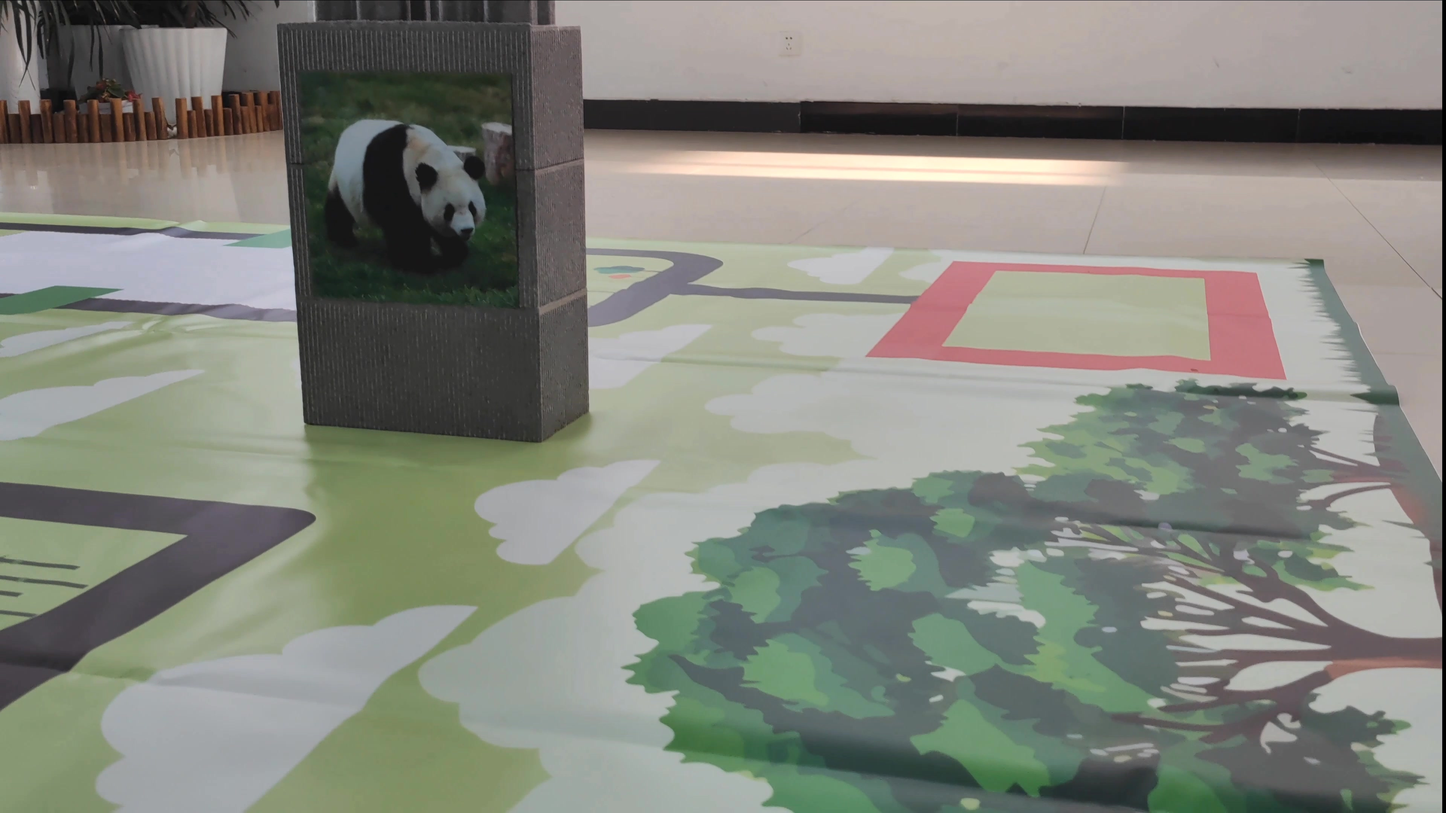panda: (313, 95, 510, 271)
